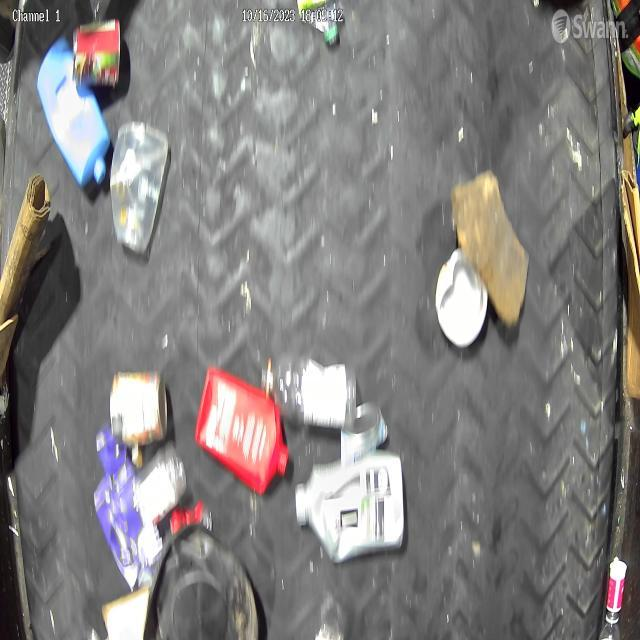can: (108, 366, 168, 442), (71, 22, 125, 81)
non_white_jug: (195, 368, 288, 492), (39, 30, 110, 176)
plastic_bottle: (262, 358, 357, 423)
